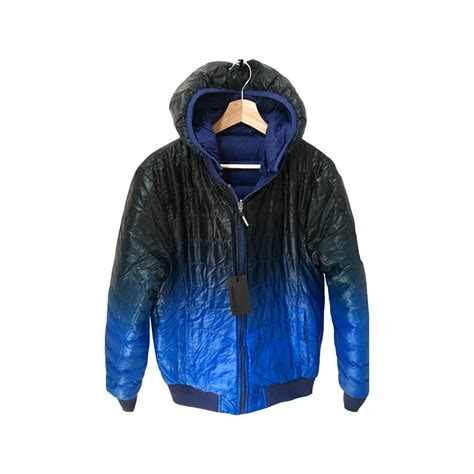nylon: (104, 60, 370, 414)
